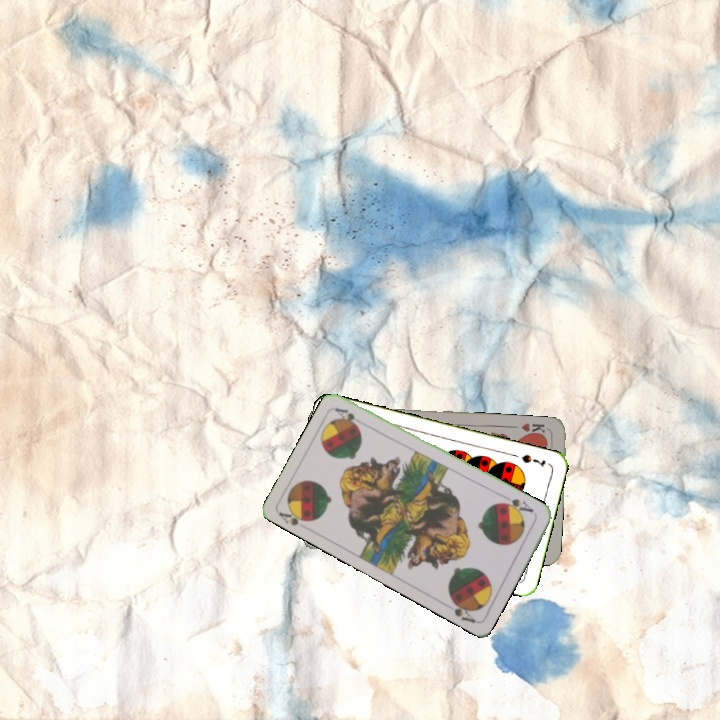HK: (518, 419, 552, 439)
S7: (518, 450, 548, 470)
SA: (275, 503, 316, 528), (497, 492, 536, 518)
